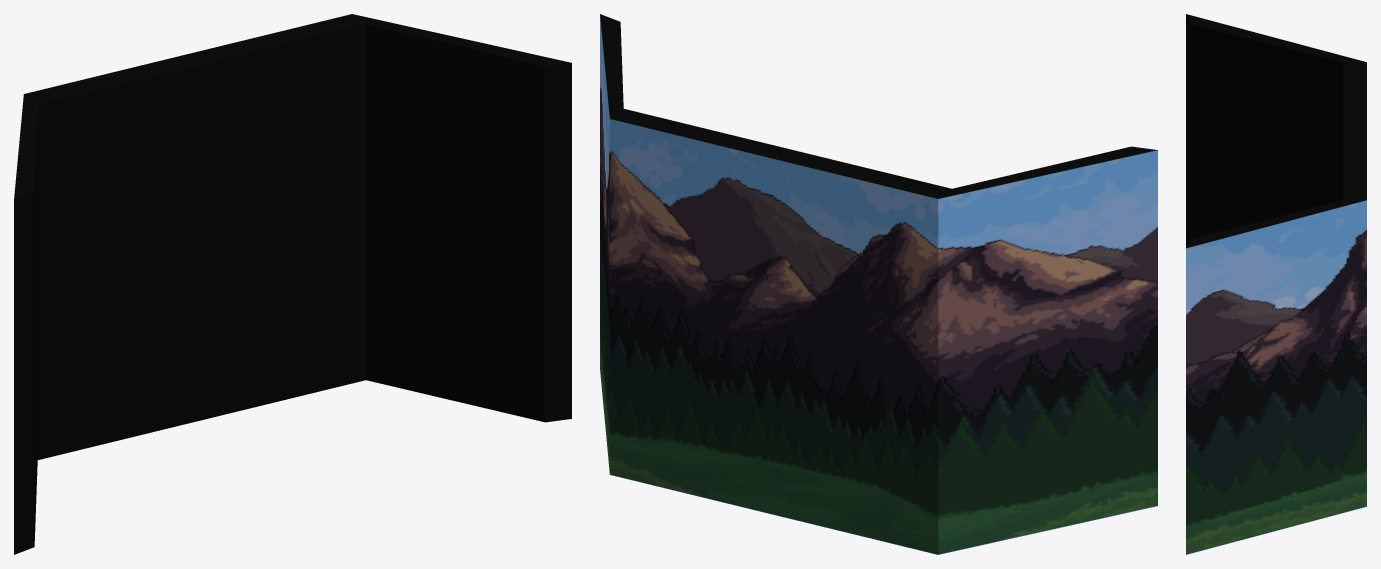
Rendered from gm_screen_plains.glb.
3 renders of one model, left to right at view 1: azimuth 30°, elevation 25°; view 2: azimuth 150°, elevation 25°; view 3: azimuth 270°, elevation 25°, orthographic. The views are drawn at different scales.
Parts seen in each view (by area): view 1: gm_screen_center; view 2: gm_screen_center; view 3: gm_screen_center.
Boxes of the visible parts, <box> form: gm_screen_center: <box>14,14,571,554</box>; gm_screen_center: <box>600,14,1157,554</box>; gm_screen_center: <box>1186,14,1366,554</box>.
Bounding box in the file's own units: 2.79 × 1.7 × 0.9086.
Materials: 2 (1 with a texture image).
